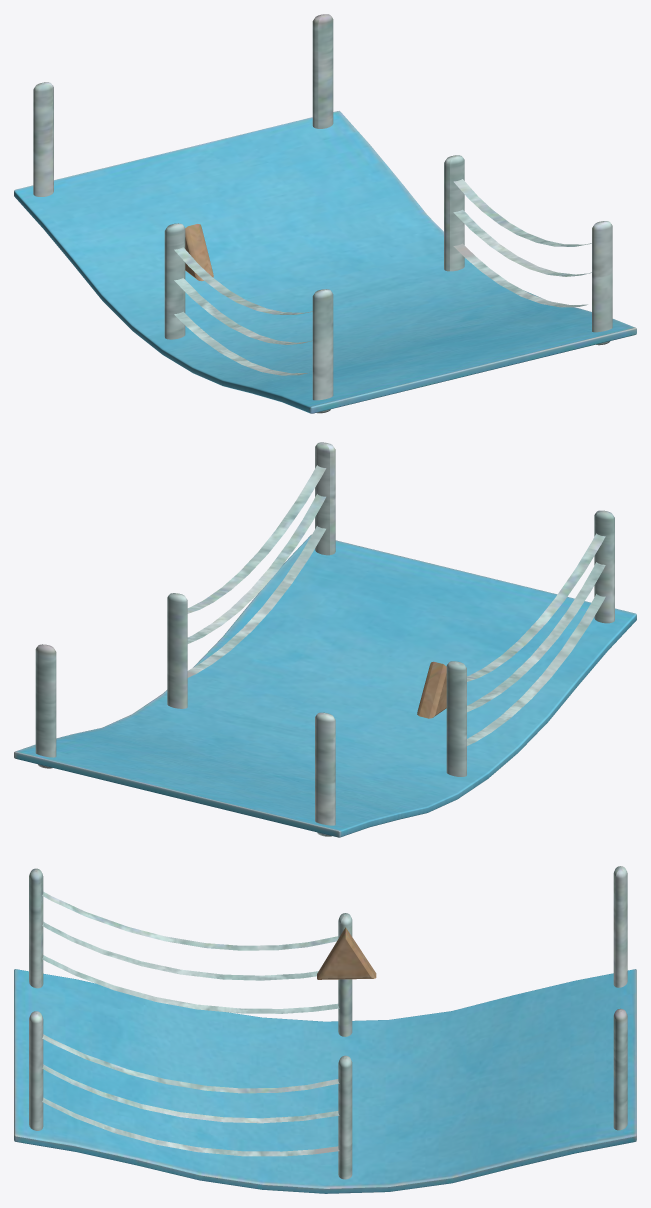
File: Niflheim_Forge_Ice_Bridge.glb
3 views of the same model, one above another, from view 1: azimuth 30°, elevation 25°; view 2: azimuth 150°, elevation 25°; view 3: azimuth 270°, elevation 25° (orthographic). The views are drawn at different scales.
Parts seen in each view (by area): view 1: Ice bridge without stars, open forge half; view 2: Ice bridge without stars, open forge half; view 3: Ice bridge without stars, open forge half.
Part boxes in pixels (x1,y1,x2,y2): Ice bridge without stars, open forge half: (14, 14, 636, 413); Ice bridge without stars, open forge half: (14, 442, 636, 837); Ice bridge without stars, open forge half: (14, 866, 636, 1193).
Bounding box in the file's own units: 7.6 × 3.71 × 12.
Materials: 1 (1 with a texture image).
